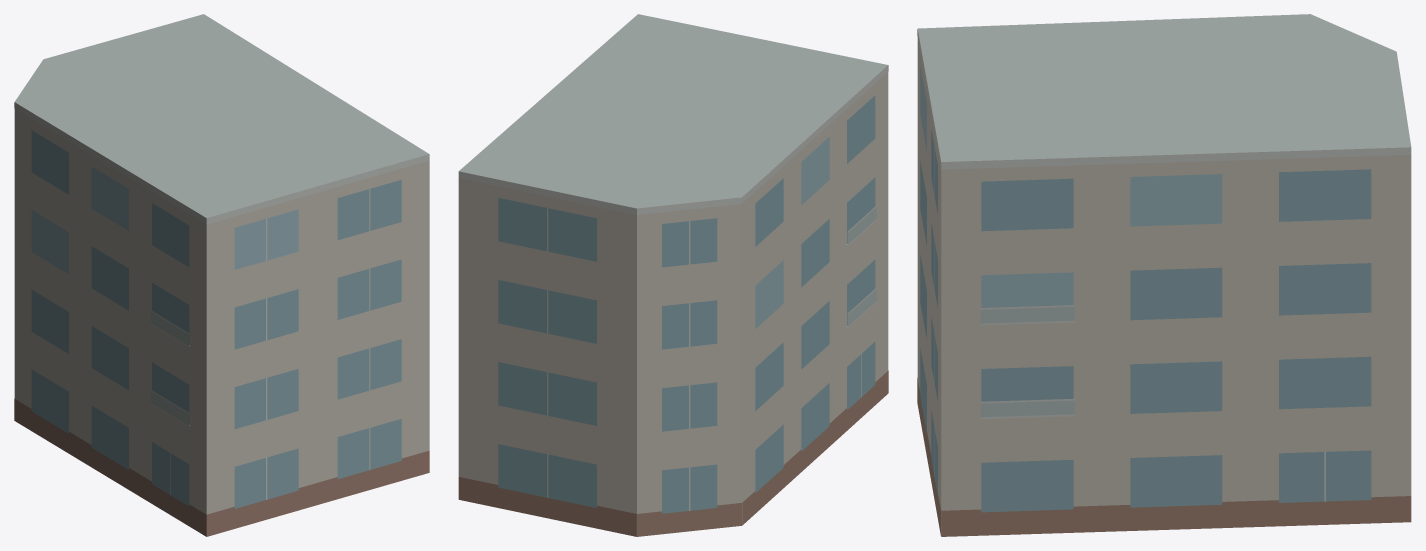
Rendered from survey-upis-32735011.glb.
3 views of the same model, side by side, from view 1: azimuth 30°, elevation 25°; view 2: azimuth 150°, elevation 25°; view 3: azimuth 270°, elevation 25° (orthographic). The views are drawn at different scales.
Visible parts, largest first — view 1: survey-upis-32735011.tmp; view 2: survey-upis-32735011.tmp; view 3: survey-upis-32735011.tmp.
Part boxes in pixels (bbox=[...]): survey-upis-32735011.tmp: bbox=[14, 14, 429, 536]; survey-upis-32735011.tmp: bbox=[458, 14, 888, 536]; survey-upis-32735011.tmp: bbox=[917, 14, 1411, 536].
Bounding box in the file's own units: 10.35 × 12.2 × 14.58.
